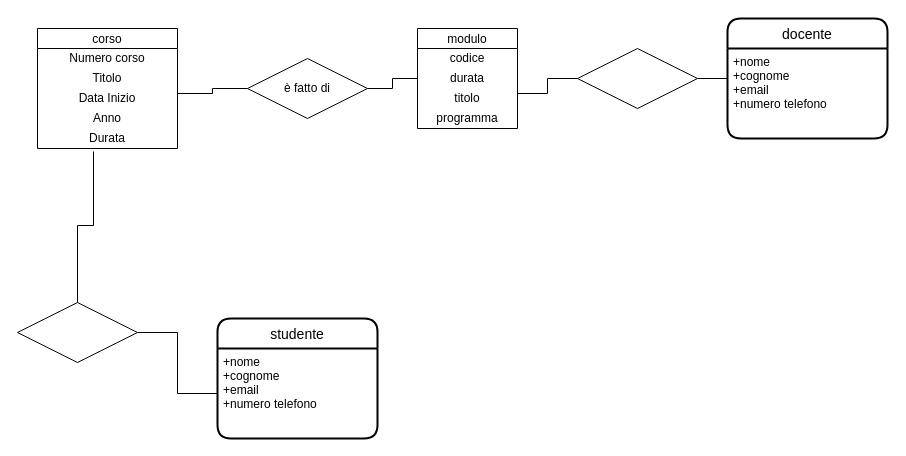
The diagram is 906 pixels wide and 456 high, and some of its shapes have lost their labels. The centre of each missing label's shape, as x and y in pixels:
frequentato da: (x=77, y=332)
insegna in: (x=637, y=78)
